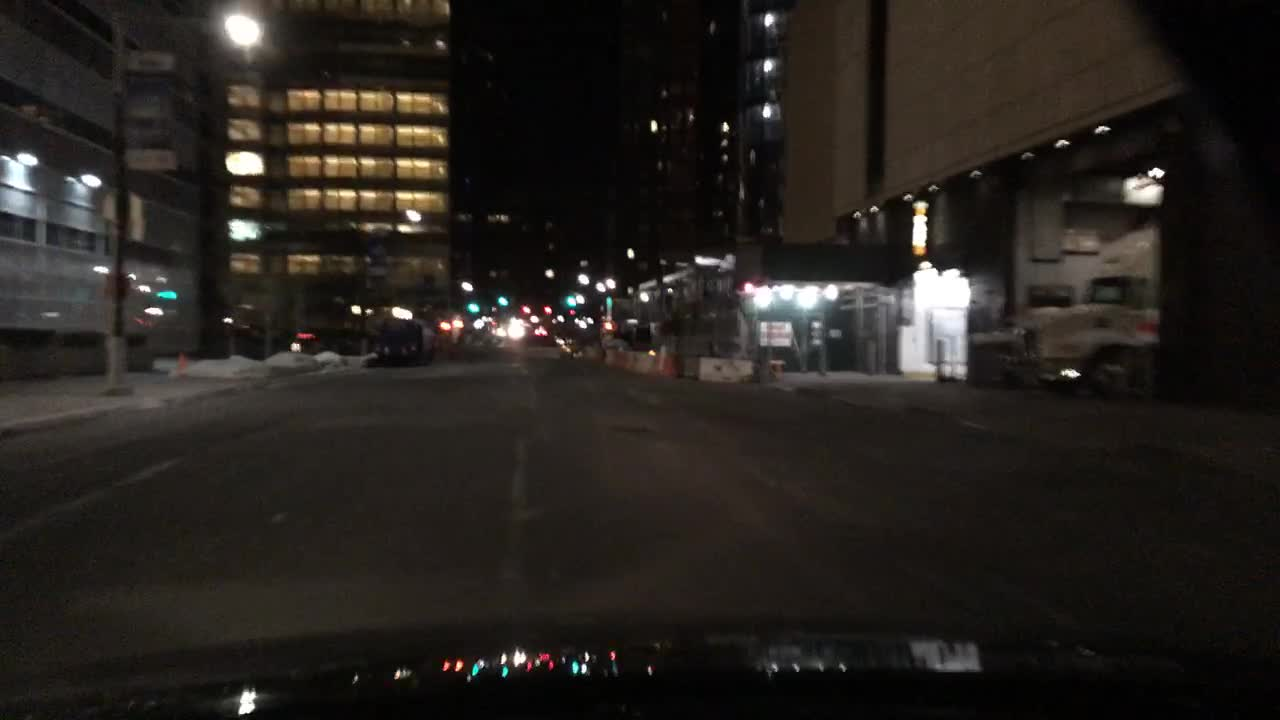car: (375, 317, 441, 366), (492, 317, 528, 340)
traffic light: (496, 292, 510, 307), (467, 299, 481, 313), (563, 294, 577, 307)
truck: (1010, 221, 1156, 399)
